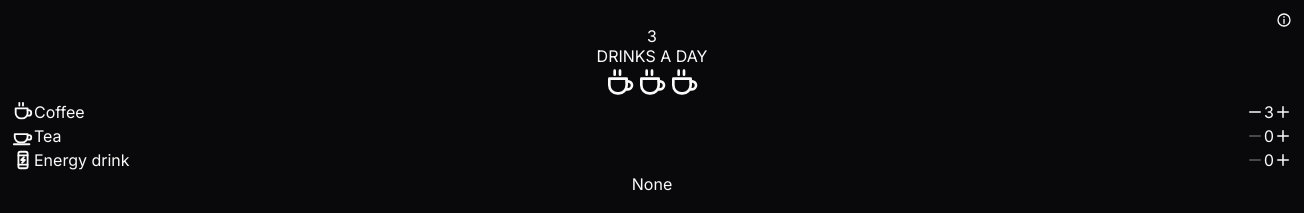
Test case: C8 cup counter › says stimulants stay out at four or more
Expected: the text "keep anything with caffeine out" is not shown
Click the button named "Add a tea" at [1283, 136], box [1274,127,1292,145]
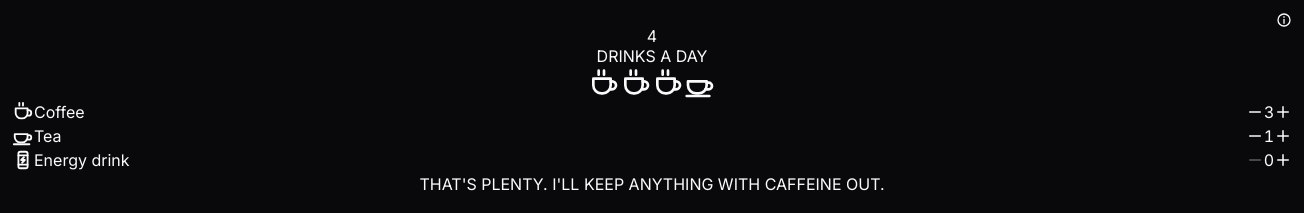
Now the text "That's plenty. I'll keep anything with caffeine out." is shown, box [419,172,885,196]
